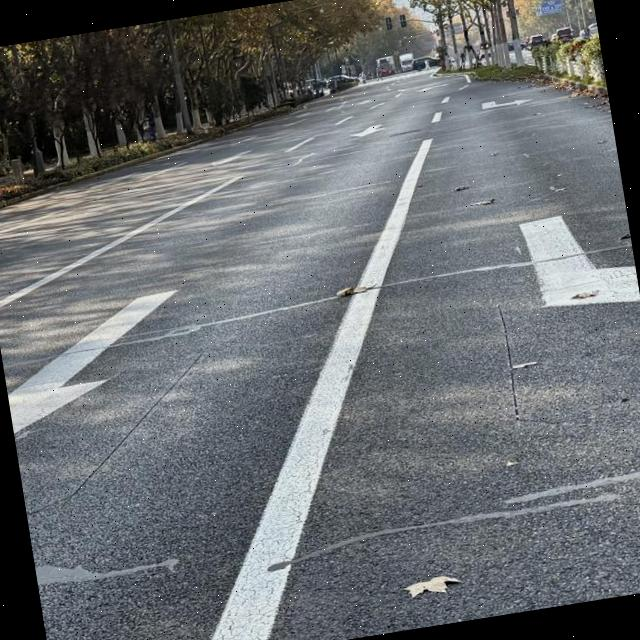curb: (0, 107, 288, 208), (548, 75, 608, 98)
